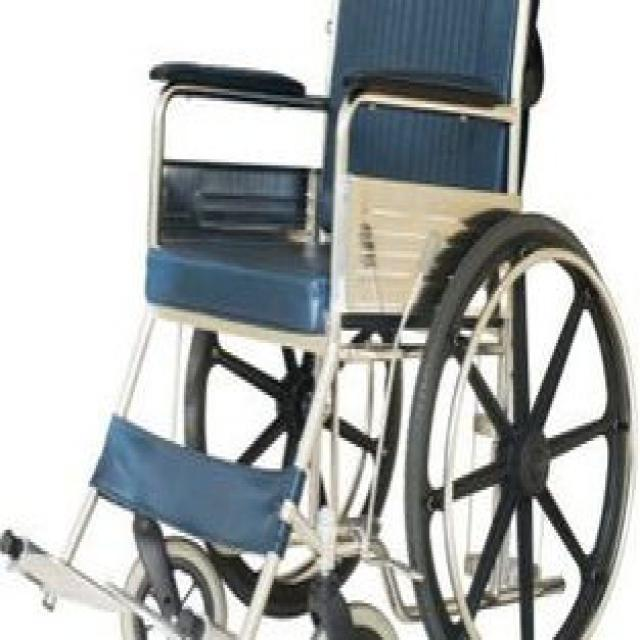wheelchair: (0, 52, 636, 637)
